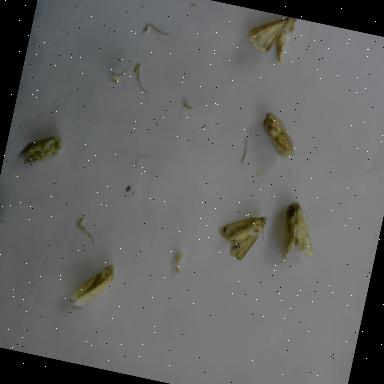abw: (272, 194, 326, 271), (210, 202, 272, 268), (63, 254, 119, 320), (240, 9, 300, 66), (253, 107, 304, 164), (12, 124, 66, 176)
